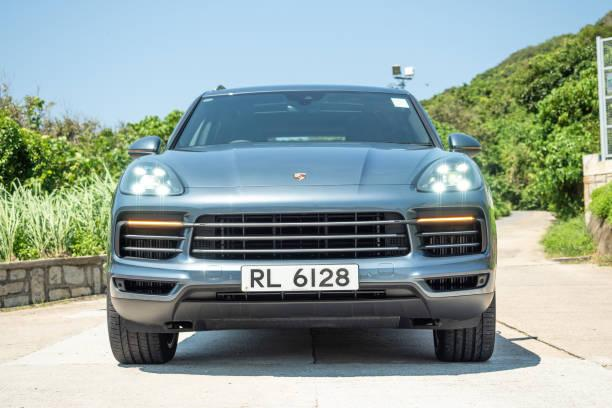porsche: (286, 169, 316, 183)
